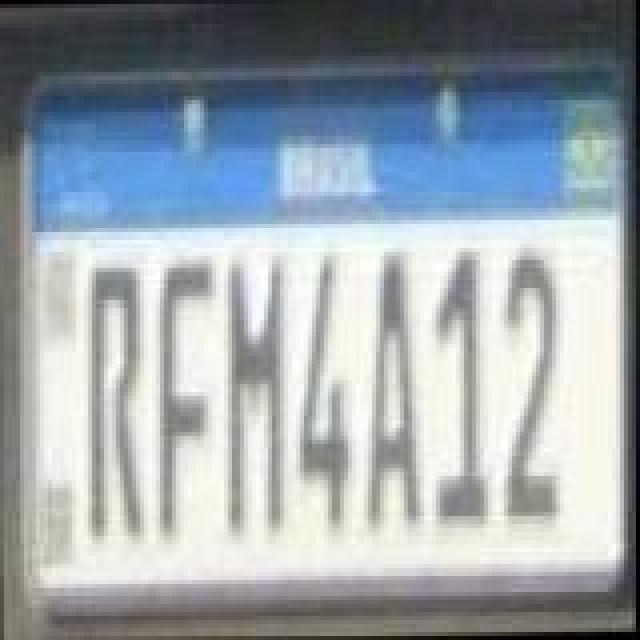1: (434, 248, 490, 532)
2: (502, 246, 566, 522)
4: (296, 252, 356, 528)
A: (358, 246, 422, 526)
F: (154, 256, 218, 540)
M: (222, 250, 286, 538)
R: (88, 262, 148, 538)
